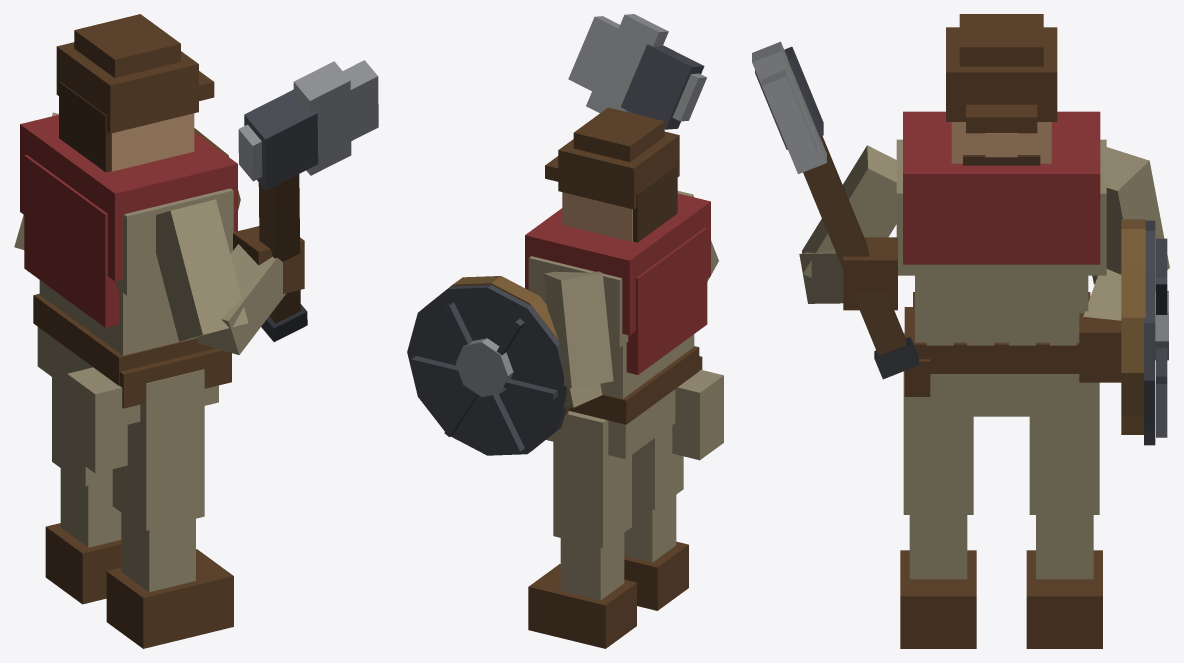
Rendered from levy.glb.
3 renders of one model, left to right at view 1: azimuth 30°, elevation 25°; view 2: azimuth 150°, elevation 25°; view 3: azimuth 270°, elevation 25°, orthographic. The views are drawn at different scales.
Visible parts, largest first — view 1: Cube.003, Cube.014, Cube.015, Cube.029, Cube.005, Cube.023, Cube.017, Cube.037, Cube.024, Cube.004, Cube.008, Cube.007 (+15 smaller); view 2: Cylinder.001, Cube, Cube.014, Cube.015, Cube.026, Cube.002, Cube.023, Cube.017, Cube.037, Cube.038, Cube.001, Cube.024 (+17 smaller); view 3: Cube.014, Cube, Cube.003, Cube.006, Cube.023, Cube.002, Cube.005, Cube.035, Cylinder, Cube.007, Cube.024, Cube.029 (+24 smaller).
Part boxes in pixels (left/top/right/bottom): Cube.003: left=112, top=369, right=204, bottom=530; Cube.014: left=20, top=114, right=237, bottom=281; Cube.015: left=24, top=155, right=118, bottom=327; Cube.029: left=156, top=199, right=248, bottom=341; Cube.005: left=106, top=549, right=233, bottom=648; Cube.023: left=56, top=42, right=198, bottom=133; Cube.017: left=67, top=367, right=127, bottom=473; Cube.037: left=244, top=89, right=318, bottom=190; Cube.024: left=74, top=14, right=180, bottom=77; Cube.004: left=121, top=513, right=195, bottom=592; Cube.008: left=39, top=280, right=196, bottom=355; Cube.007: left=33, top=293, right=214, bottom=385; Cylinder.001: left=407, top=284, right=566, bottom=455; Cube: left=553, top=411, right=631, bottom=547; Cube.014: left=525, top=193, right=710, bottom=335; Cube.015: left=626, top=227, right=707, bottom=374; Cube.026: left=544, top=271, right=613, bottom=388; Cube.002: left=528, top=564, right=636, bottom=648; Cube.023: left=558, top=131, right=679, bottom=209; Cube.017: left=672, top=370, right=723, bottom=460; Cube.037: left=621, top=44, right=704, bottom=129; Cube.038: left=586, top=14, right=668, bottom=113; Cube.001: left=560, top=533, right=624, bottom=600; Cube.024: left=573, top=107, right=664, bottom=161; Cube.014: left=903, top=111, right=1100, bottom=264; Cube: left=1029, top=382, right=1099, bottom=514; Cube.003: left=903, top=333, right=973, bottom=514; Cube.006: left=916, top=374, right=1086, bottom=416; Cube.023: left=946, top=27, right=1057, bottom=121; Cube.002: left=1026, top=550, right=1102, bottom=648; Cube.005: left=900, top=550, right=976, bottom=648; Cube.035: left=803, top=136, right=906, bottom=355; Cylinder: left=1121, top=219, right=1145, bottom=434; Cube.007: left=913, top=292, right=1090, bottom=373; Cube.024: left=959, top=14, right=1043, bottom=66; Cube.029: left=802, top=145, right=896, bottom=277.
Size of the model in its own units: 9.33 by 21.13 by 12.92.
